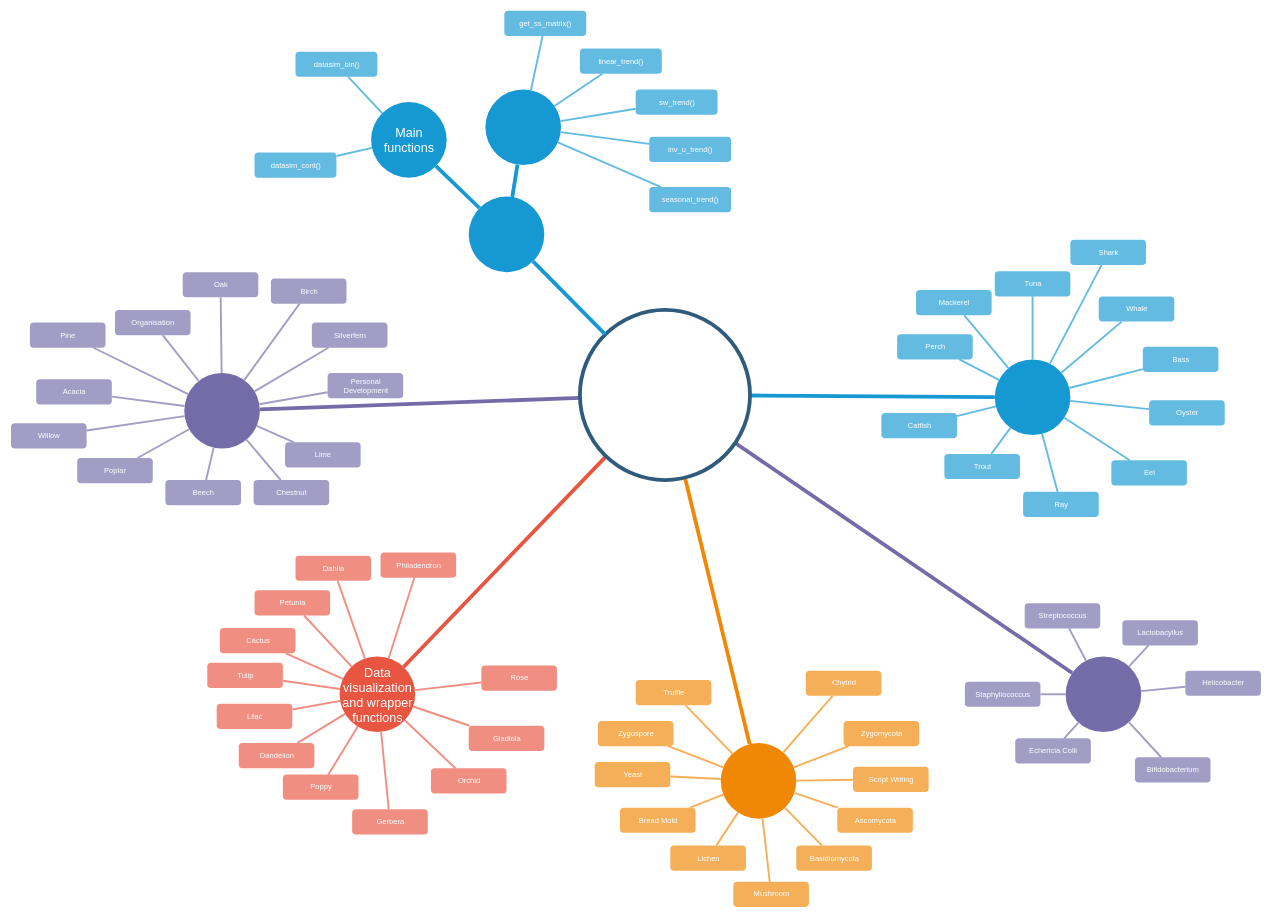
This 1271x918 diagram has some shape labels left out. Each missing label, with the box of its shape:
Auxiliary functions: (485, 89, 561, 165)
Bacteria: (1065, 656, 1141, 732)
Data analysis: (994, 359, 1070, 435)
Fungi: (720, 743, 796, 818)
Main simulation: (468, 196, 544, 272)
NCC Functions: (578, 308, 752, 482)
Tree: (184, 373, 260, 448)
